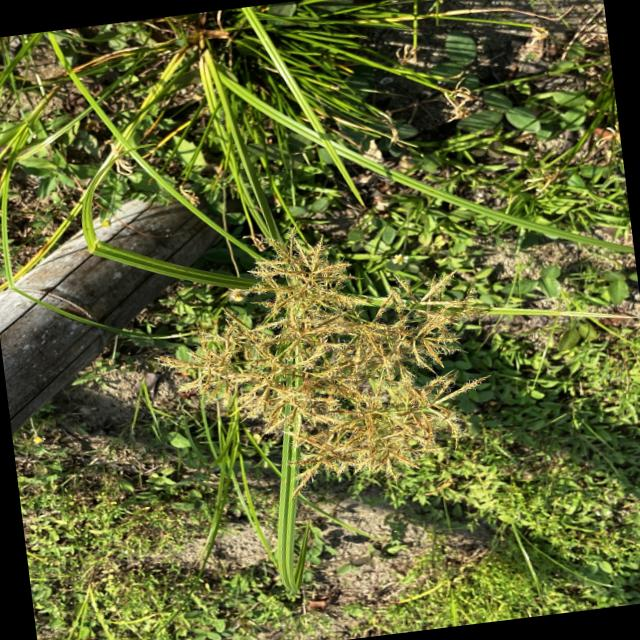cyperus: (136, 215, 504, 508)
